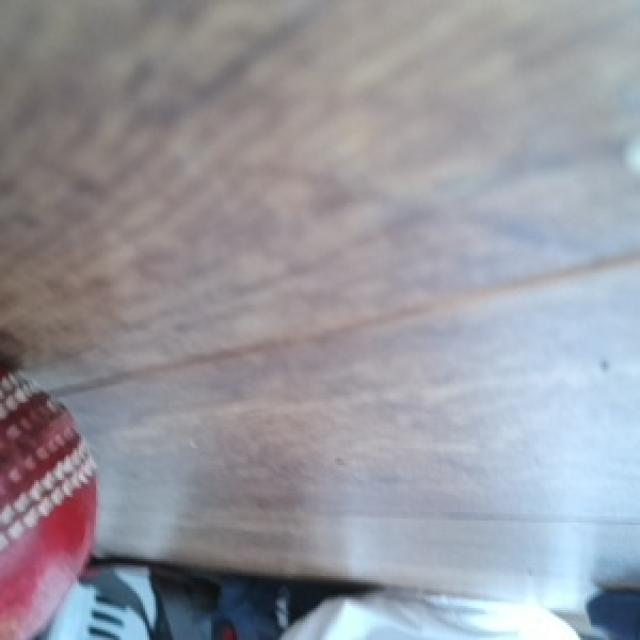ball: (0, 335, 98, 640)
